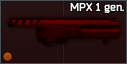MPX GEN1 upper receiver: (0, 0, 127, 64)
